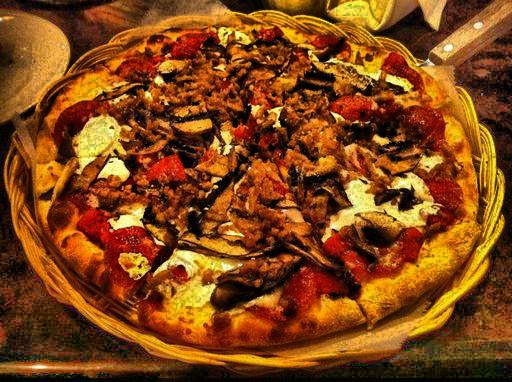pizza: (44, 27, 483, 336)
